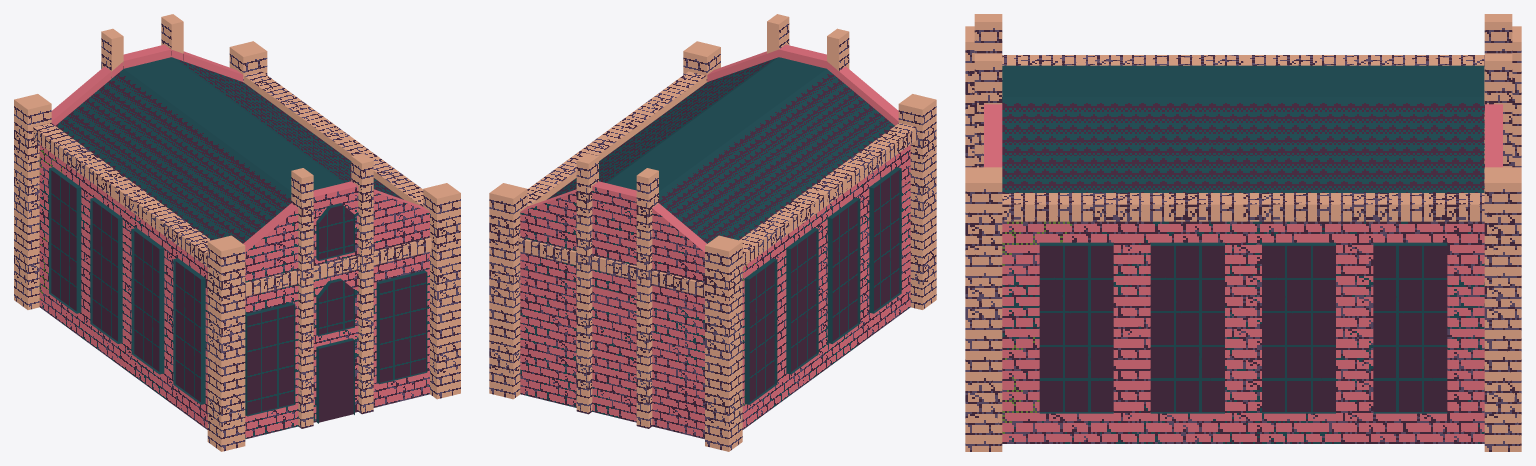
The model's file is manufacturing_works.glb.
The picture shows the model from 3 angles, left to right: view 1: azimuth 30°, elevation 25°; view 2: azimuth 150°, elevation 25°; view 3: azimuth 270°, elevation 25°; orthographic projection. The views are drawn at different scales.
Parts seen in each view (by area): view 1: manufacturing_works; view 2: manufacturing_works; view 3: manufacturing_works.
Part boxes in pixels (x1=…): manufacturing_works: x1=14, y1=14, x2=460, y2=451; manufacturing_works: x1=489, y1=14, x2=936, y2=451; manufacturing_works: x1=965, y1=14, x2=1521, y2=451.
Size of the model in its own units: 10 by 10 by 15.
Materials: 1 (1 with a texture image).
